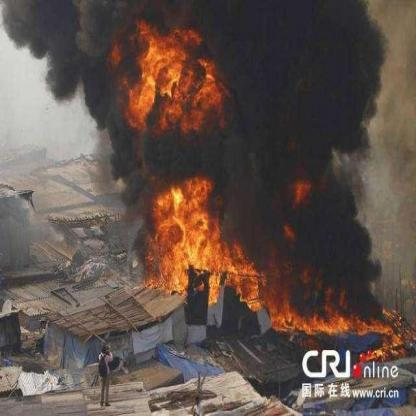fire: (145, 177, 266, 312), (116, 20, 223, 130), (271, 288, 402, 361)
other: (350, 357, 364, 378), (360, 347, 376, 359)
smoke: (231, 7, 358, 162), (274, 175, 370, 278), (10, 4, 110, 54)
